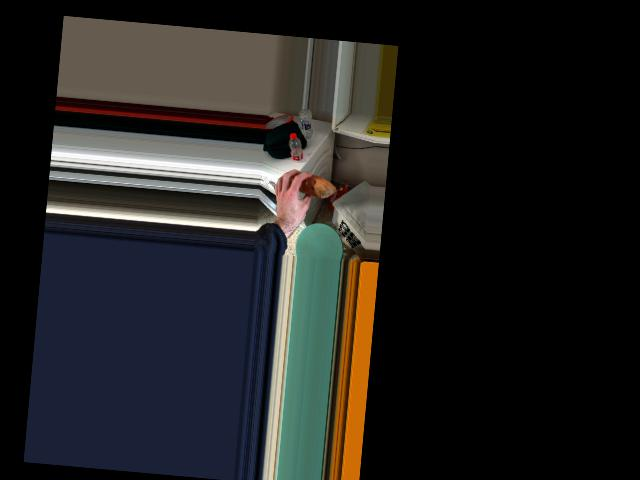sweet_potato: (294, 175, 328, 194)
